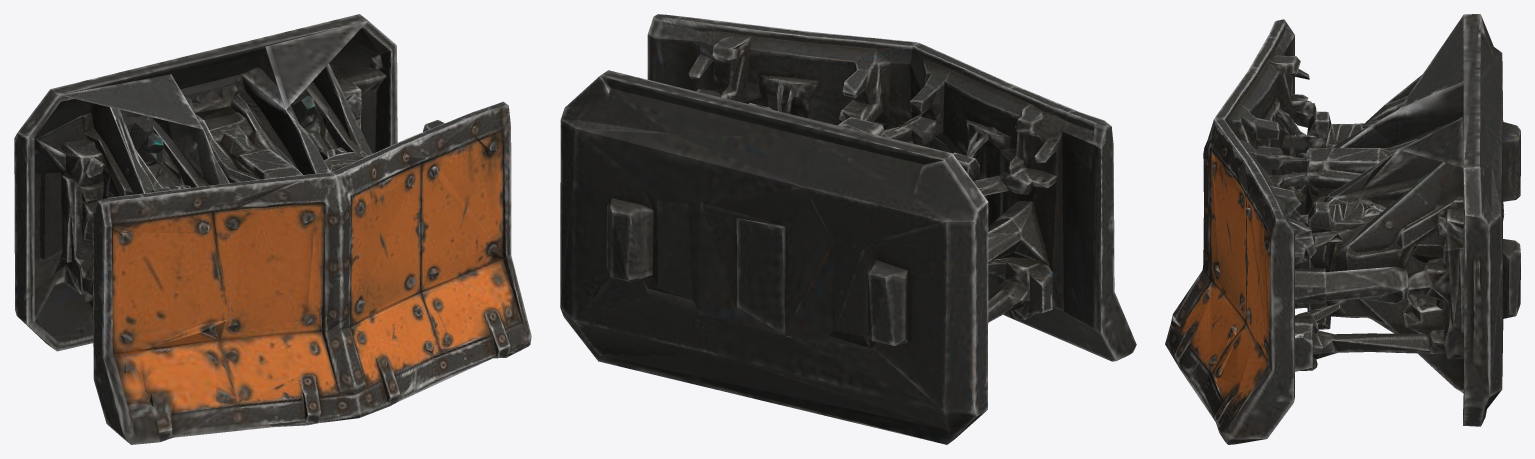
Rendered from ram.glb.
3 renders of one model, left to right at view 1: azimuth 30°, elevation 25°; view 2: azimuth 150°, elevation 25°; view 3: azimuth 270°, elevation 25°, orthographic. The views are drawn at different scales.
Visible parts, largest first — view 1: Mesh_0; view 2: Mesh_0; view 3: Mesh_0.
Boxes of the visible parts, left/top/right/bottom form: Mesh_0: left=14, top=14, right=531, bottom=444; Mesh_0: left=560, top=14, right=1136, bottom=444; Mesh_0: left=1165, top=14, right=1520, bottom=444.
Bounding box in the file's own units: 0.7476 × 0.45 × 0.5568.
1 material, 1 textured.
